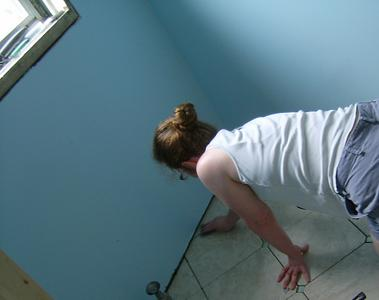person: (150, 104, 379, 290)
